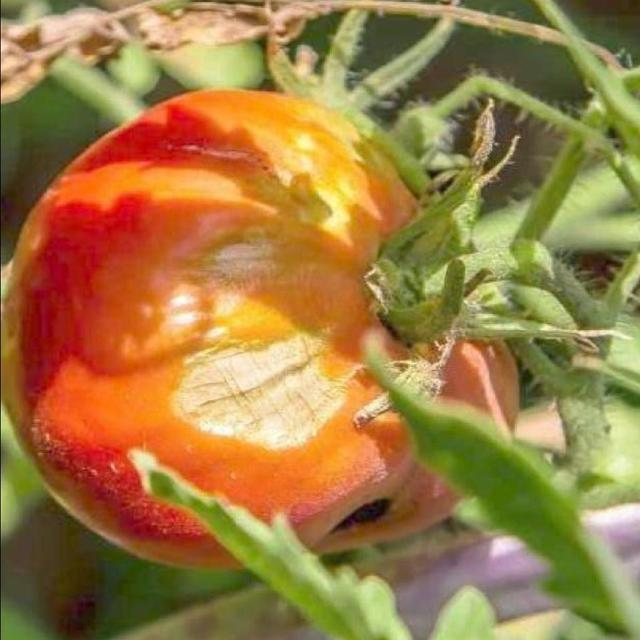Sunscald Fruit: (77, 70, 258, 308)
